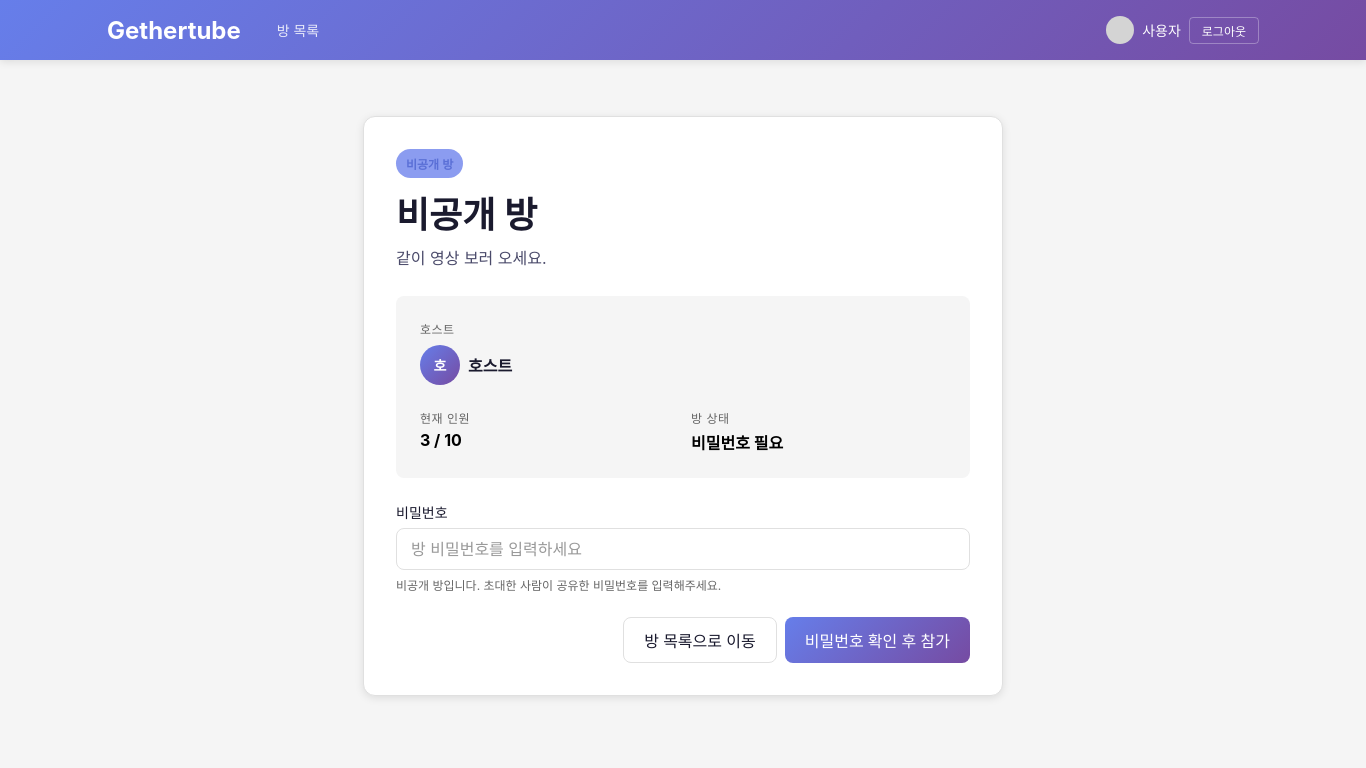
Test: RoomJoinPage › accepts a password for private rooms and shows inline errors
Expected: the heading "비공개 방" is shown, [396, 193, 537, 237]
Type "wrong-pass" into the password field labelled "비밀번호" at [683, 549], box [396, 528, 970, 570]
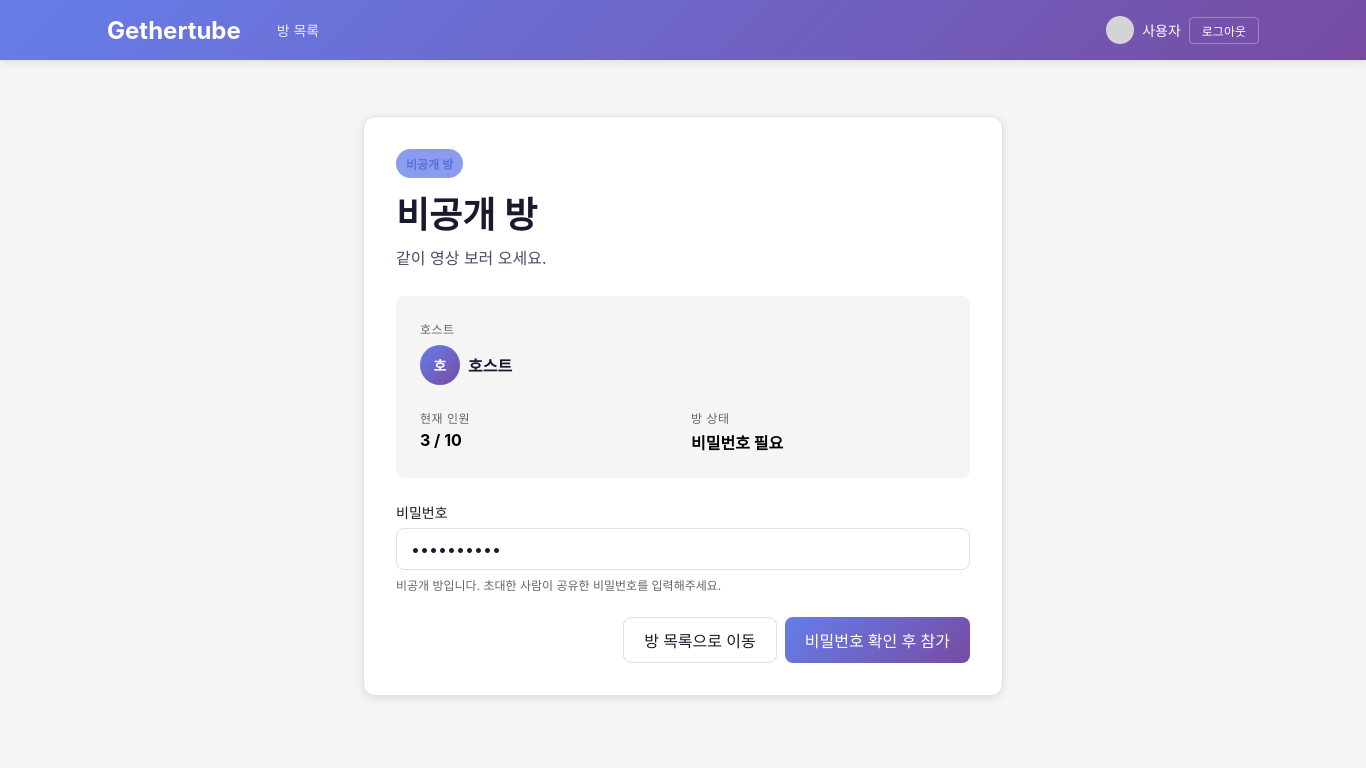
Click the button "비밀번호 확인 후 참가" at [877, 640], box [785, 617, 970, 663]
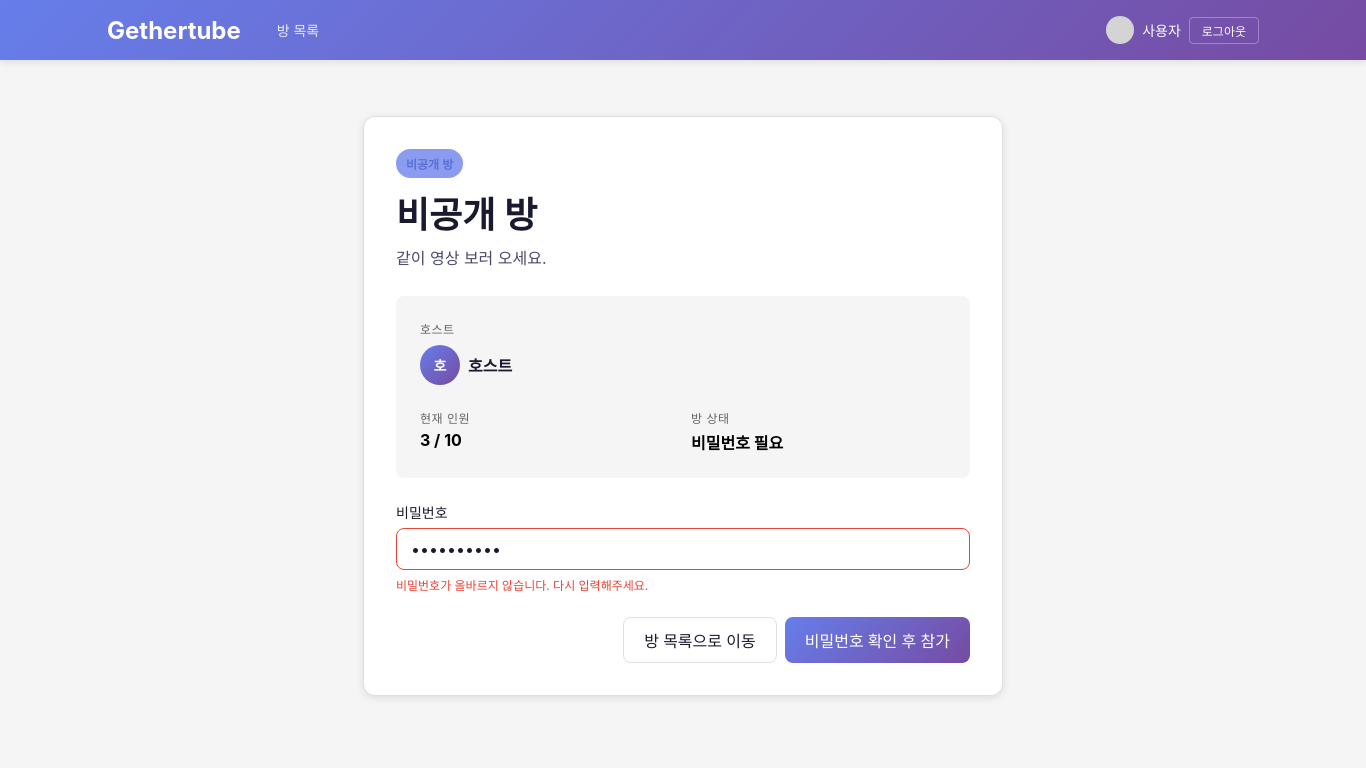
Result: the text "비밀번호가 올바르지 않습니다. 다시 입력해주세요." is shown at [396, 578, 648, 593]
